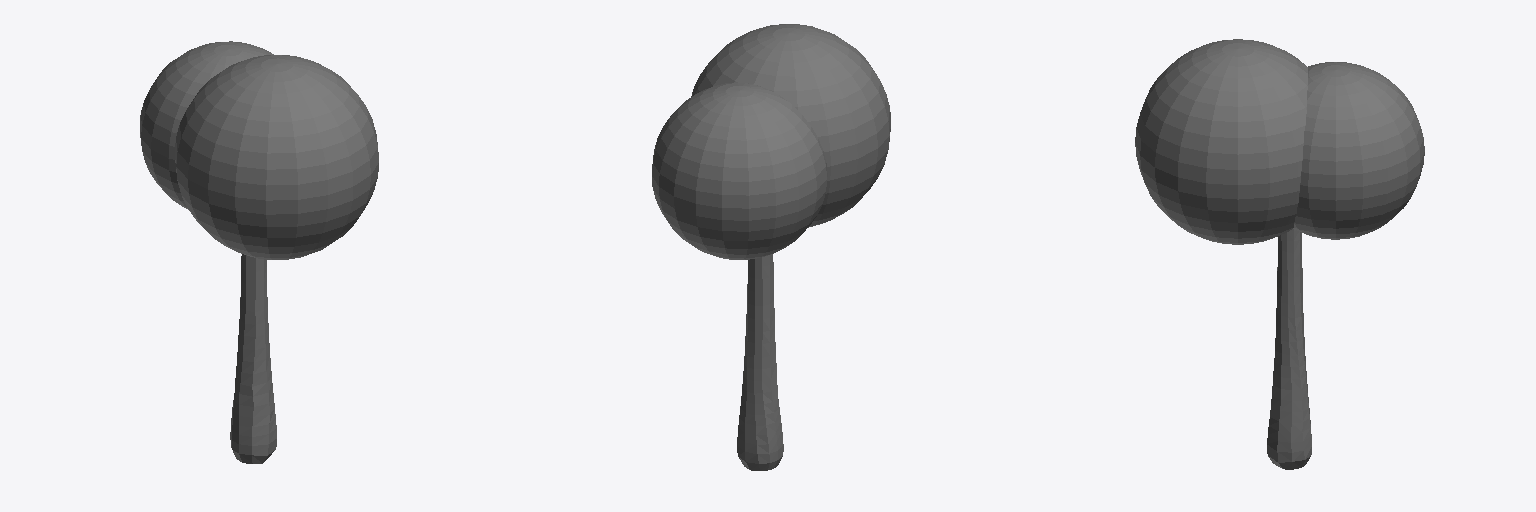
Rendered from Low_Poly_Without_Fruit.obj.
3 views of the same model, side by side, from view 1: azimuth 30°, elevation 25°; view 2: azimuth 150°, elevation 25°; view 3: azimuth 270°, elevation 25° (orthographic).
Parts seen in each view (by area): view 1: polySurface4 Good_One; view 2: polySurface4 Good_One; view 3: polySurface4 Good_One.
Boxes of the visible parts, box(x1,y1,x2,y2) form: polySurface4 Good_One: box(140, 41, 378, 463); polySurface4 Good_One: box(652, 24, 890, 470); polySurface4 Good_One: box(1135, 39, 1424, 469).
Bounding box in the file's own units: 1.28 × 2.84 × 1.8.